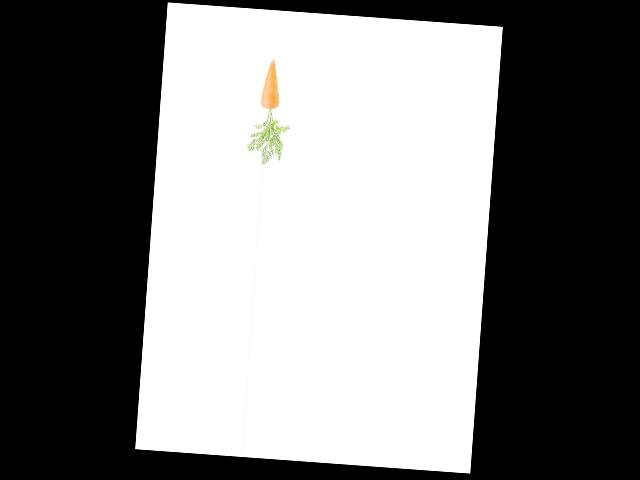carrot: (255, 57, 288, 112)
